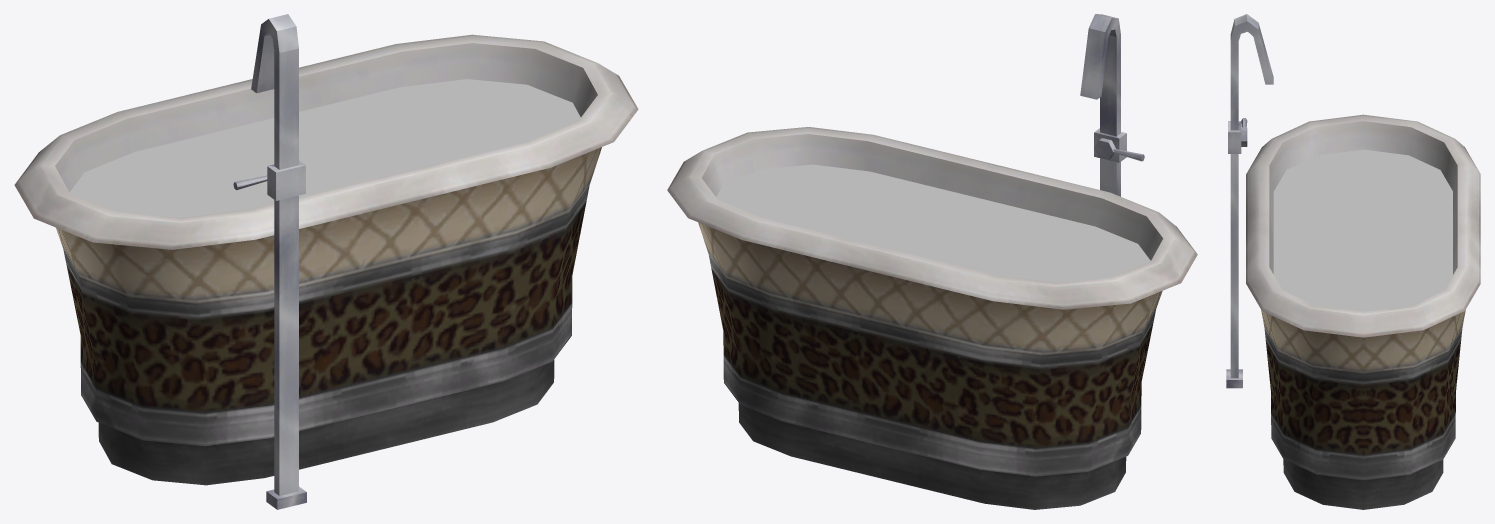
The model's file is furni_0200083.FBX.
The picture shows the model from 3 angles, left to right: view 1: azimuth 30°, elevation 25°; view 2: azimuth 150°, elevation 25°; view 3: azimuth 270°, elevation 25°; orthographic projection. The views are drawn at different scales.
Parts seen in each view (by area): view 1: furni_0200083; view 2: furni_0200083; view 3: furni_0200083.
Part boxes in pixels (x1,y1,x2,y2): furni_0200083: [14, 14, 638, 509]; furni_0200083: [667, 14, 1197, 509]; furni_0200083: [1226, 14, 1480, 509].
Size of the model in its own units: 160 by 126 by 79.22.
